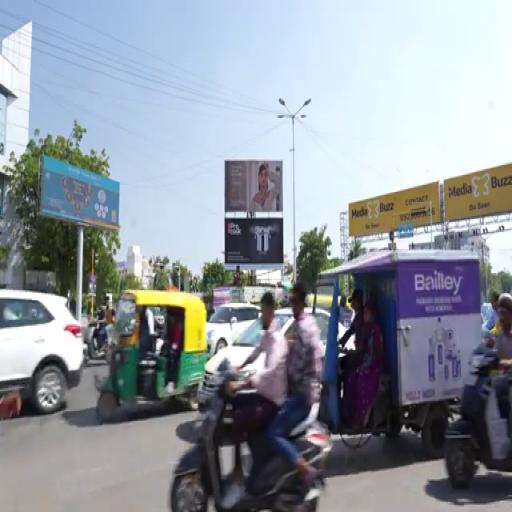Car: (0, 289, 83, 413), (198, 318, 262, 412), (206, 303, 260, 355)
